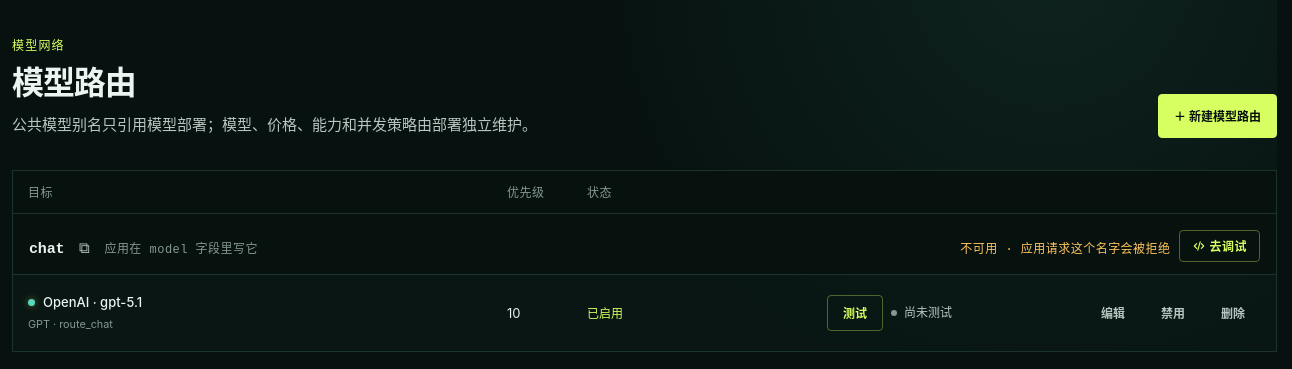
Scenario: RoutesPage › shows a route test result inside the route that was tested
This screenshot has width=1292, height=369.
Expected: the text "route_chat" is shown, [59,318,113,331]
Click the button "测试".
click(855, 313)  # box [827,295,883,331]
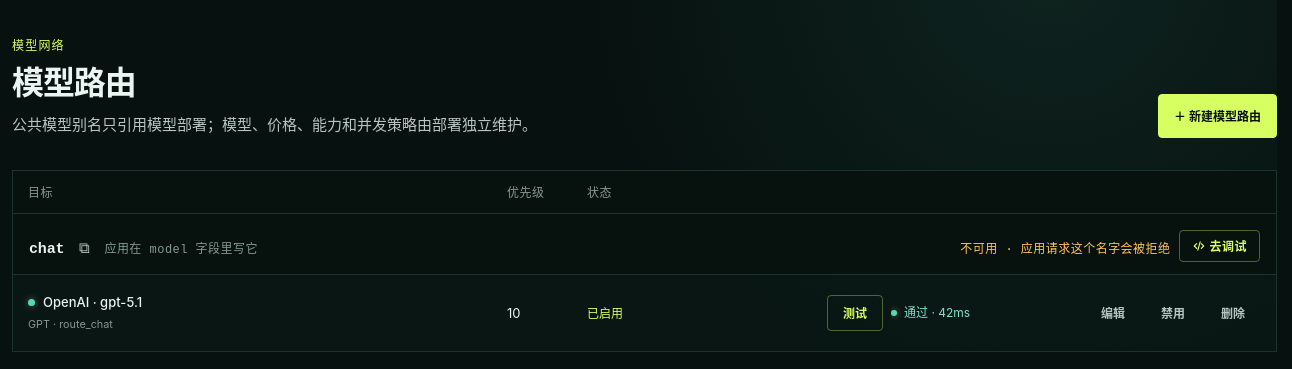
Expected: the message reads "通过 · 42ms", [904,305,970,320]
